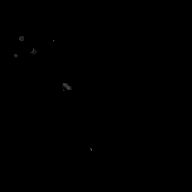v: (12, 34, 37, 58)
